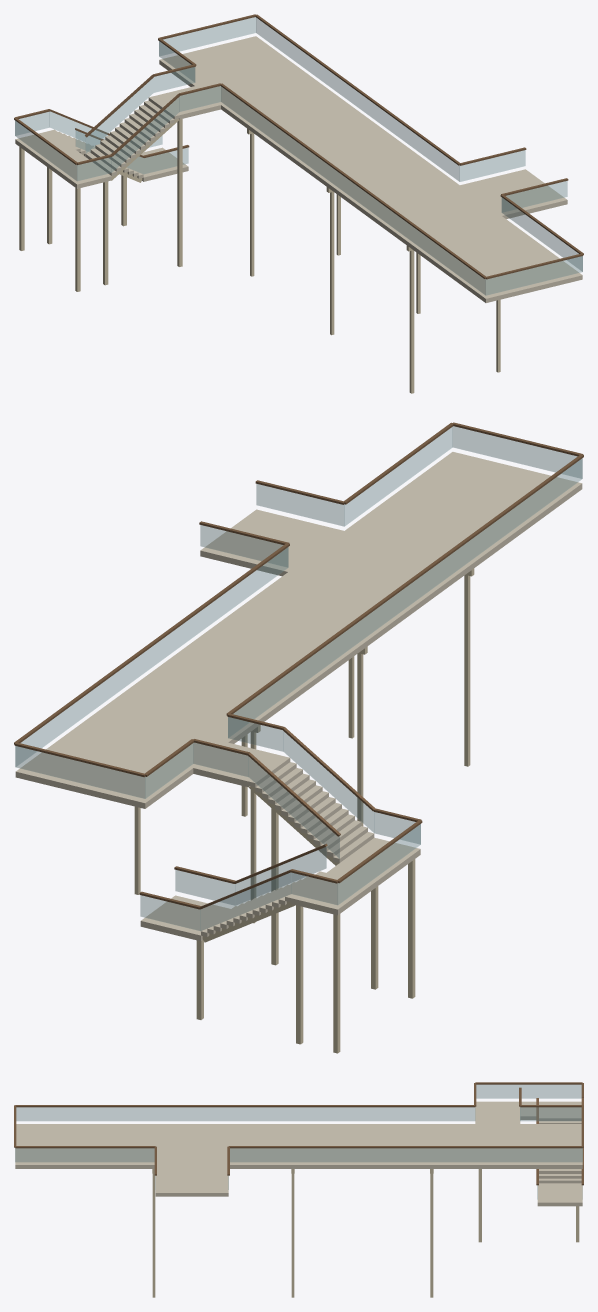
The model's file is ForemidOrchardReceiver_r003.glb.
The picture shows the model from 3 angles, top to bottom: view 1: azimuth 30°, elevation 25°; view 2: azimuth 150°, elevation 25°; view 3: azimuth 270°, elevation 25°; orthographic projection. The views are drawn at different scales.
Visible parts, largest first — view 1: UpperStationGallery, GalleryWestSouth_glass, GalleryEastNorth_glass, MissingOnlyOverRailReceiving, MidLanding, ThirdStopHold_glass, GalleryNorth_glass, GalleryEastSouth_glass, UpperStairArrival, GalleryWestSouth_handrail, LowerStairArrival, BridgeNorth_glass (+20 smaller); view 2: UpperStationGallery, GalleryWestSouth_glass, GalleryEastNorth_glass, MissingOnlyOverRailReceiving, MidLanding, GalleryNorth_glass, ThirdStopHold_glass, GalleryEastSouth_glass, LowerStairArrival, UpperStairArrival, GalleryWestSouth_handrail, WestGlass0 (+22 smaller); view 3: UpperStationGallery, GalleryWestSouth_glass, GalleryEastNorth_glass, MissingOnlyOverRailReceiving, GalleryEastSouth_glass, MidWest_glass, GalleryWestSouth_handrail, LowerStairArrival, GalleryEastNorth_handrail, MidLanding, GalleryWestNorth_glass, UpperStairArrival (+6 smaller).
Part boxes in pixels (<box>): UpperStationGallery: <box>159,36,582,302</box>; GalleryWestSouth_glass: <box>221,87,485,295</box>; GalleryEastNorth_glass: <box>256,18,459,181</box>; MissingOnlyOverRailReceiving: <box>460,169,567,219</box>; MidLanding: <box>15,131,111,188</box>; ThirdStopHold_glass: <box>486,256,582,295</box>; GalleryNorth_glass: <box>159,17,255,55</box>; GalleryEastSouth_glass: <box>502,198,582,271</box>; UpperStairArrival: <box>154,86,220,119</box>; GalleryWestSouth_handrail: <box>220,83,485,278</box>; LowerStairArrival: <box>130,147,188,181</box>; BridgeNorth_glass: <box>460,150,525,181</box>; UpperStationGallery: <box>15,452,582,808</box>; GalleryWestSouth_glass: <box>228,458,582,737</box>; GalleryEastNorth_glass: <box>15,547,288,766</box>; MissingOnlyOverRailReceiving: <box>200,509,343,576</box>; MidLanding: <box>291,837,420,915</box>; GalleryNorth_glass: <box>15,746,144,798</box>; ThirdStopHold_glass: <box>453,426,582,478</box>; GalleryEastSouth_glass: <box>344,427,452,526</box>; LowerStairArrival: <box>140,895,230,941</box>; UpperStairArrival: <box>193,742,283,787</box>; GalleryWestSouth_handrail: <box>226,454,583,715</box>; WestGlass0: <box>201,872,291,930</box>; UpperStationGallery: <box>15,1124,582,1168</box>; GalleryWestSouth_glass: <box>16,1107,474,1120</box>; GalleryEastNorth_glass: <box>230,1148,582,1161</box>; MissingOnlyOverRailReceiving: <box>155,1165,228,1196</box>; GalleryEastSouth_glass: <box>15,1148,154,1161</box>; MidWest_glass: <box>476,1085,581,1098</box>; GalleryWestSouth_handrail: <box>15,1105,475,1107</box>; LowerStairArrival: <box>537,1183,582,1206</box>; GalleryEastNorth_handrail: <box>228,1146,582,1148</box>; MidLanding: <box>476,1101,581,1119</box>; GalleryWestNorth_glass: <box>520,1107,581,1120</box>; UpperStairArrival: <box>475,1106,520,1123</box>.
Size of the model in its own units: 17.79 by 9.68 by 32.84.
